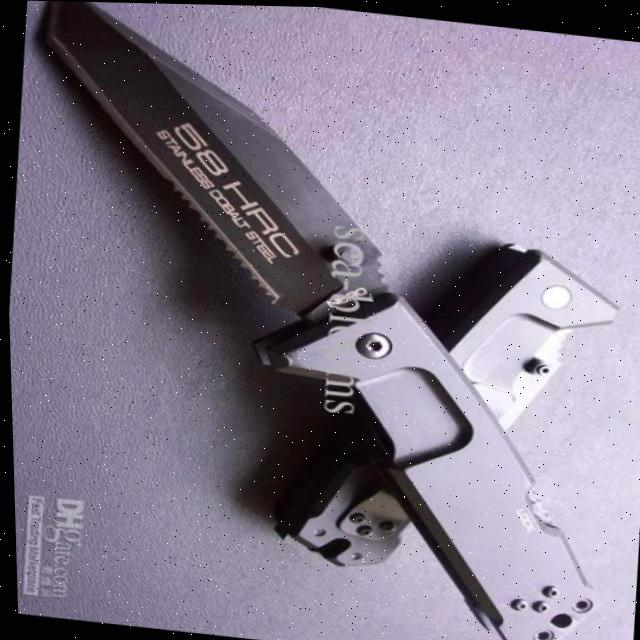knife: (0, 0, 640, 640), (270, 222, 630, 596)
